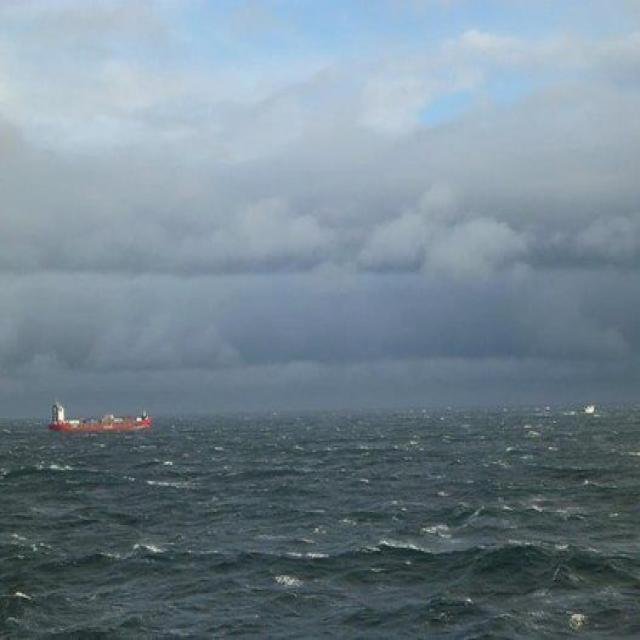cargoship: (48, 398, 152, 434)
